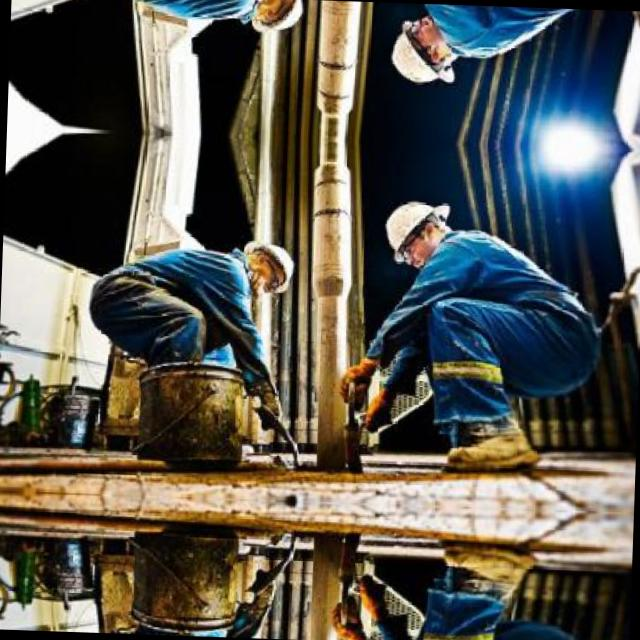helmet: (386, 12, 462, 87), (379, 194, 455, 268), (240, 238, 294, 296), (248, 0, 303, 33)
